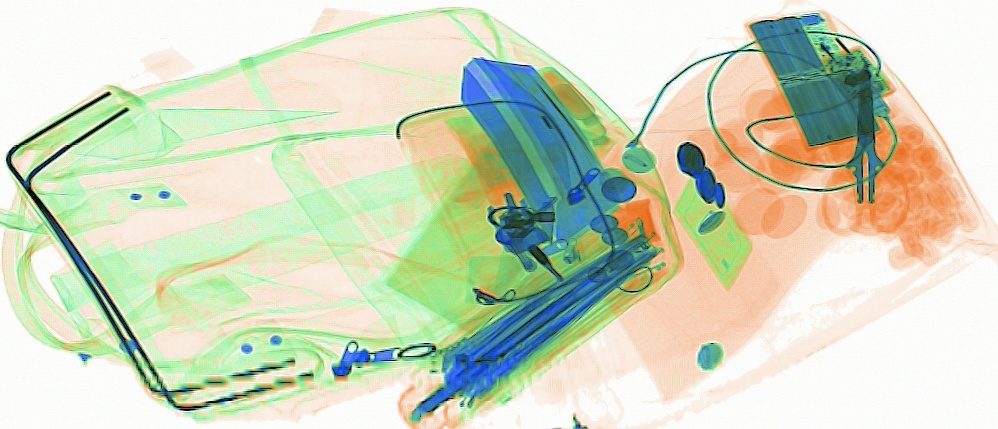powerbank: (738, 2, 900, 161)
scissors: (814, 56, 923, 249)
